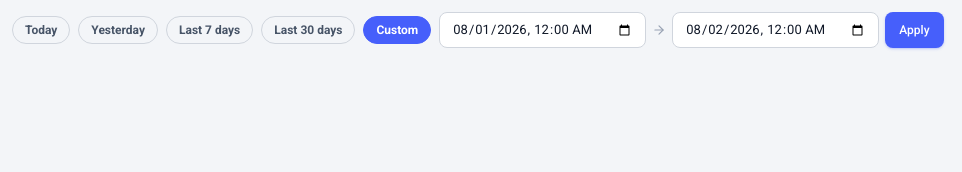
Test: ReportRangePicker (§16 time ranges) › filters as soon as a valid custom range is picked, as UTC ISO
Step 1. Replace the text in the field named "from" with "2026-08-15T10:00" → (543, 30), box [439,12,646,48]
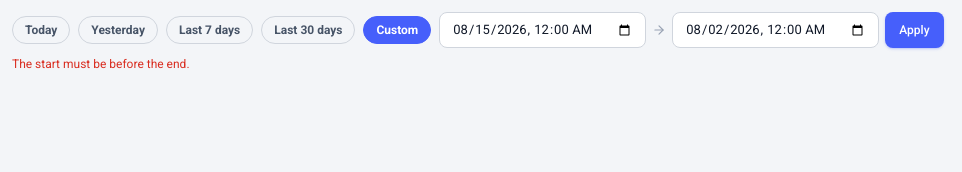
Check: the message shows "before", box [12,57,190,71]
Step 2. Replace the text in the field named "to" with "2026-08-16T10:00" → (776, 30), box [672,12,879,48]
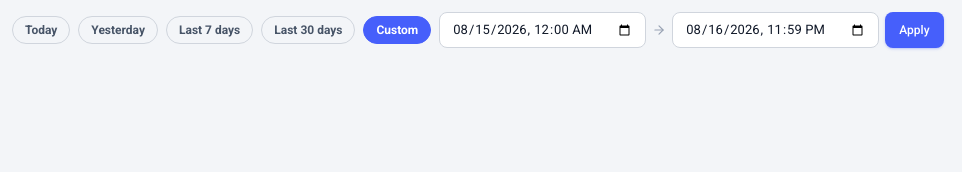
Check: the message "The start must be before the end." is gone
